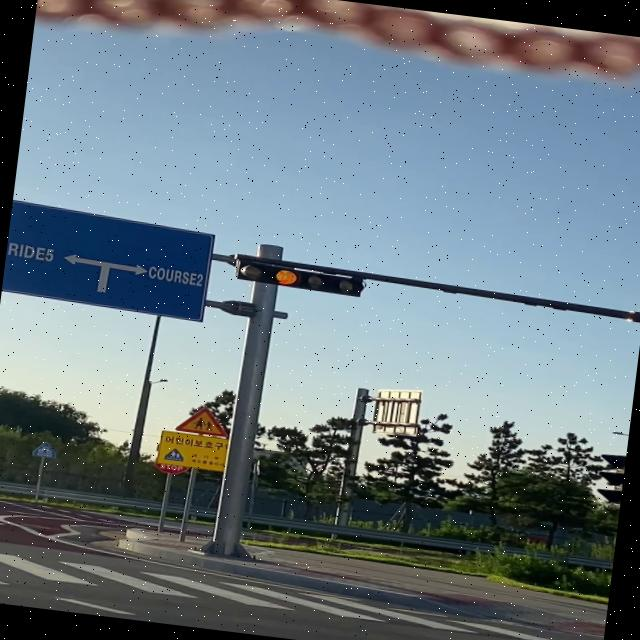yellow_light: (235, 260, 363, 297)
